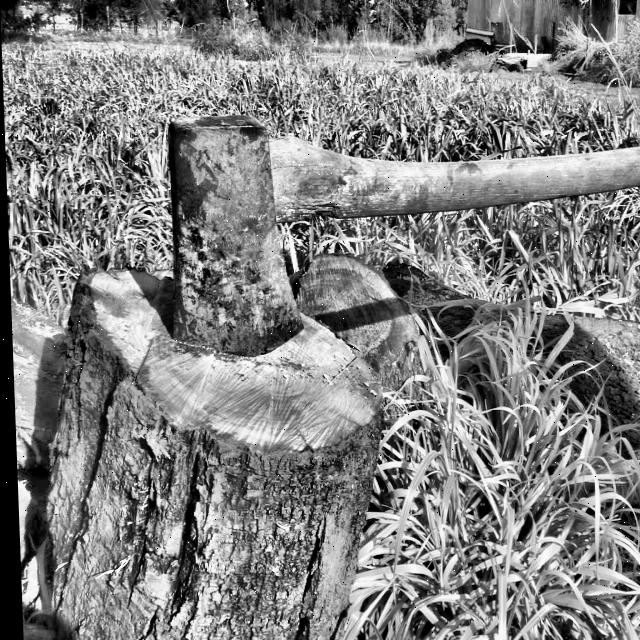kapak: (161, 99, 640, 377)
